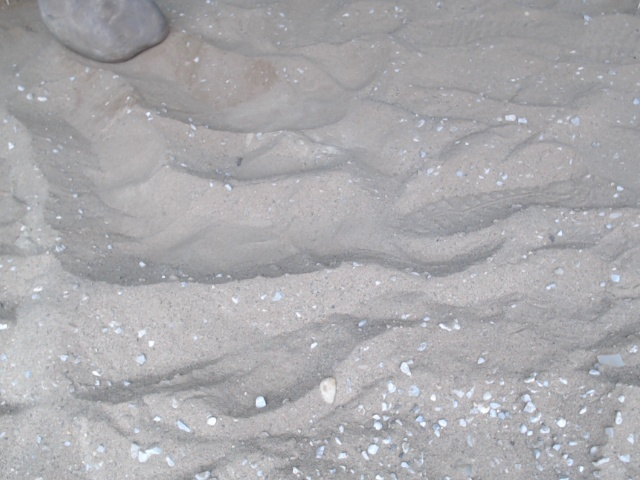rock: (38, 1, 173, 70)
